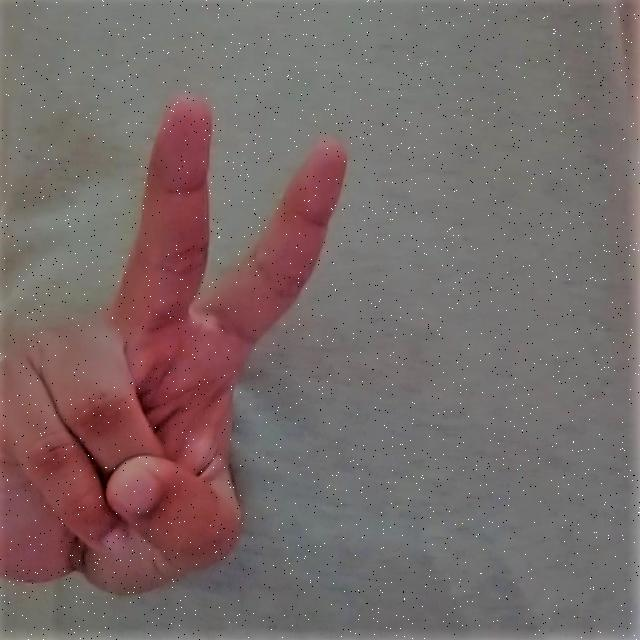V: (10, 88, 368, 606)
